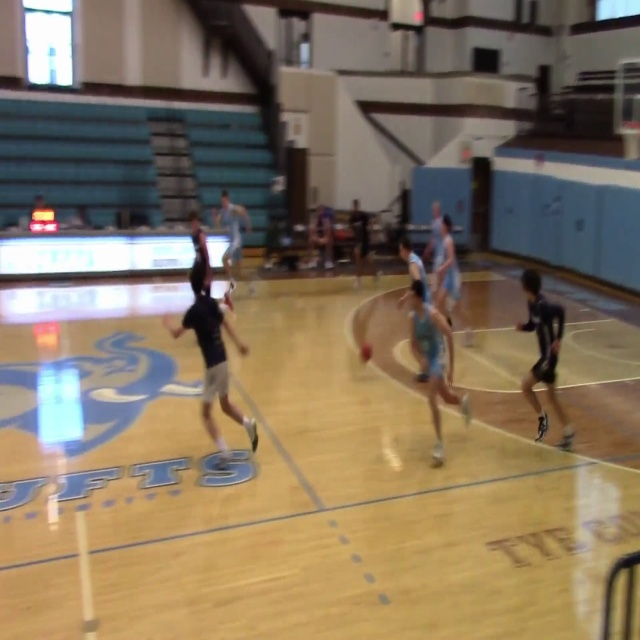Basketball: (360, 343, 373, 361)
